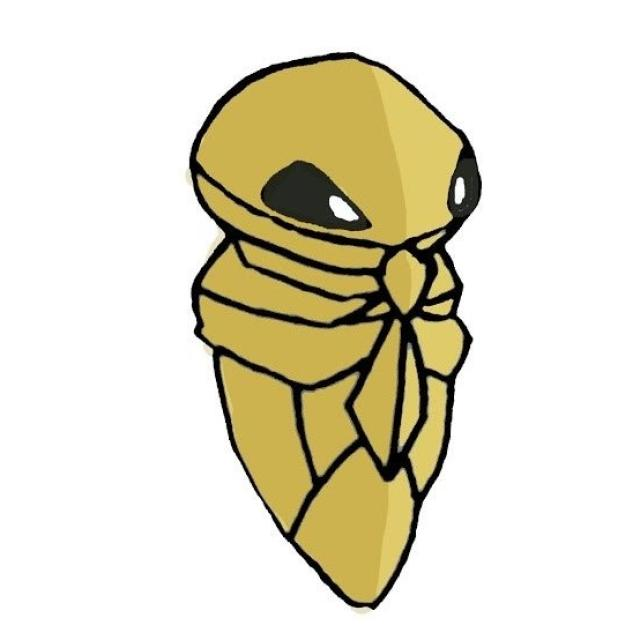Kakuna: (185, 55, 483, 611)
